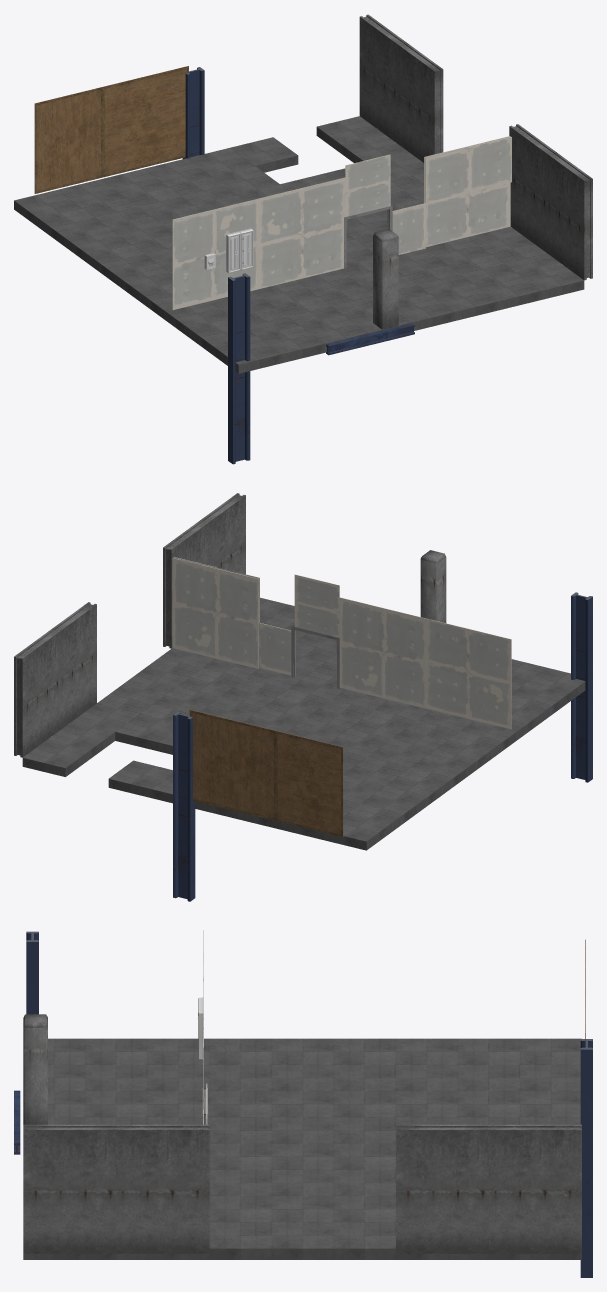
File: BuildingMap_0_1.gltf
3 views of the same model, one above another, from view 1: azimuth 30°, elevation 25°; view 2: azimuth 150°, elevation 25°; view 3: azimuth 270°, elevation 25° (orthographic). The views are drawn at different scales.
Visible parts, largest first — view 1: SM_Floors_Thick_11, SM_Floors_Thick_10, SM_Floors_Thick_5, SM_Building_Pieces_WallConcrete6m8, SM_Building_Pieces_WallConcrete6m6, SM_Wall_Inside_27, SM_Wall_Inside_32, SM_Wall_Inside_26, SM_Wall_Inside_34, SM_Building_Pieces_2_SteelRudder145, SM_Wall_Inside_20, SM_Building_Pieces_ConcretePillar2 (+23 smaller); view 2: SM_Floors_Thick_10, SM_Floors_Thick_5, SM_Floors_Thick_11, SM_Building_Pieces_WallConcrete6m8, SM_Wall_Inside_26, SM_Wall_Inside_20, SM_Wall_Inside_27, SM_Wall_Inside_32, SM_Wall_Inside_34, SM_Building_Pieces_WallConcrete6m6, SM_Floors_Thick_8, SM_Building_Pieces_2_SteelRudder187 (+12 smaller); view 3: SM_Building_Pieces_WallConcrete6m6, SM_Building_Pieces_WallConcrete6m8, SM_Floors_Thick_10, SM_Floors_Thick_11, SM_Floors_Thick_5, SM_Floors_Thick_8, SM_Floors_Thick_101, SM_Building_Pieces_2_SteelRudder187, SM_Building_Pieces_ConcretePillar2, SM_Building_Pieces_2_SteelRudder145, SM_Floors_Thick_13, SM_Floors_Thick_15 (+1 smaller).
Part boxes in pixels (bbox=[...]): SM_Floors_Thick_11: bbox=[14, 158, 245, 281]; SM_Floors_Thick_10: bbox=[113, 259, 372, 355]; SM_Floors_Thick_5: bbox=[339, 198, 558, 301]; SM_Building_Pieces_WallConcrete6m8: bbox=[359, 14, 443, 162]; SM_Building_Pieces_WallConcrete6m6: bbox=[509, 124, 592, 280]; SM_Wall_Inside_27: bbox=[259, 177, 345, 288]; SM_Wall_Inside_32: bbox=[102, 66, 188, 177]; SM_Wall_Inside_26: bbox=[172, 198, 258, 309]; SM_Wall_Inside_34: bbox=[34, 87, 102, 193]; SM_Building_Pieces_2_SteelRudder145: bbox=[228, 273, 250, 464]; SM_Wall_Inside_20: bbox=[424, 136, 510, 247]; SM_Building_Pieces_ConcretePillar2: bbox=[373, 229, 398, 329]; SM_Floors_Thick_10: bbox=[294, 683, 564, 777]; SM_Floors_Thick_5: bbox=[122, 622, 345, 726]; SM_Floors_Thick_11: bbox=[194, 727, 465, 850]; SM_Building_Pieces_WallConcrete6m8: bbox=[14, 602, 96, 757]; SM_Wall_Inside_26: bbox=[425, 618, 511, 729]; SM_Wall_Inside_20: bbox=[172, 558, 258, 668]; SM_Wall_Inside_27: bbox=[339, 597, 425, 708]; SM_Wall_Inside_32: bbox=[189, 710, 275, 820]; SM_Wall_Inside_34: bbox=[275, 731, 343, 837]; SM_Building_Pieces_WallConcrete6m6: bbox=[163, 493, 245, 648]; SM_Floors_Thick_8: bbox=[72, 685, 207, 751]; SM_Building_Pieces_2_SteelRudder187: bbox=[173, 711, 195, 901]; SM_Building_Pieces_WallConcrete6m6: bbox=[23, 1124, 209, 1253]; SM_Building_Pieces_WallConcrete6m8: bbox=[396, 1124, 581, 1253]; SM_Floors_Thick_10: bbox=[85, 1038, 333, 1143]; SM_Floors_Thick_11: bbox=[333, 1038, 581, 1143]; SM_Floors_Thick_5: bbox=[85, 1143, 333, 1259]; SM_Floors_Thick_8: bbox=[333, 1196, 457, 1259]; SM_Floors_Thick_101: bbox=[333, 1143, 395, 1195]; SM_Building_Pieces_2_SteelRudder187: bbox=[580, 1039, 592, 1277]; SM_Building_Pieces_ConcretePillar2: bbox=[23, 1014, 47, 1124]; SM_Building_Pieces_2_SteelRudder145: bbox=[26, 931, 38, 1014]; SM_Floors_Thick_13: bbox=[48, 1091, 85, 1117]; SM_Floors_Thick_15: bbox=[48, 1038, 85, 1064].
Size of the model in its own units: 16.6 by 8.93 by 18.65.
6 materials, 6 textured.
